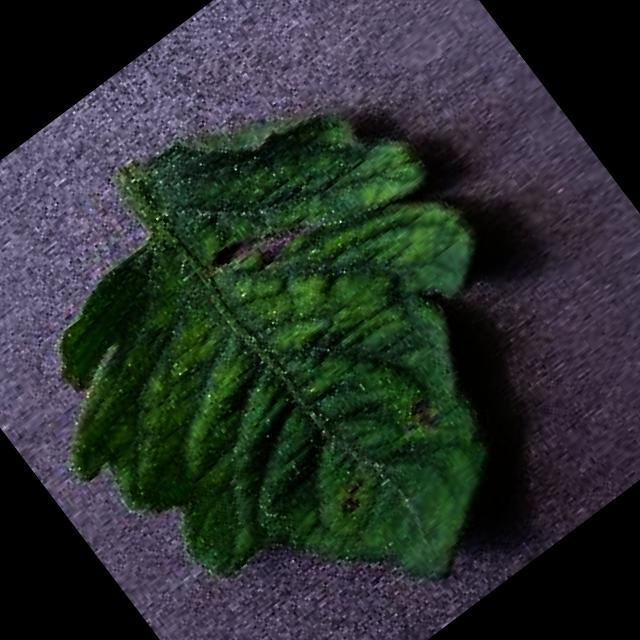Tomato mosaic virus leaf: (0, 30, 635, 640)
